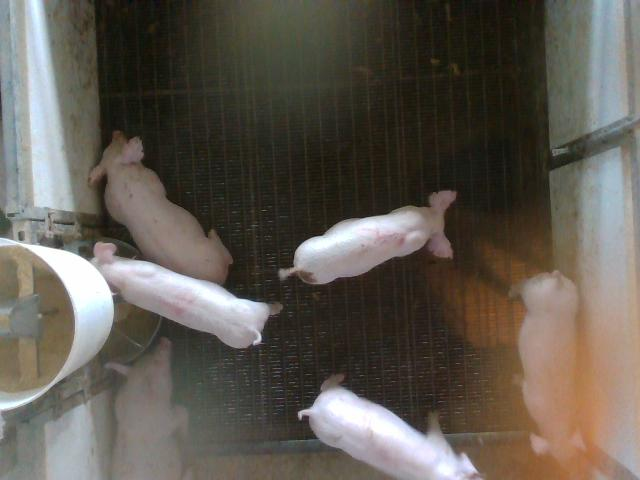pig-4: (92, 243, 280, 348)
pig-5: (279, 192, 456, 284)
